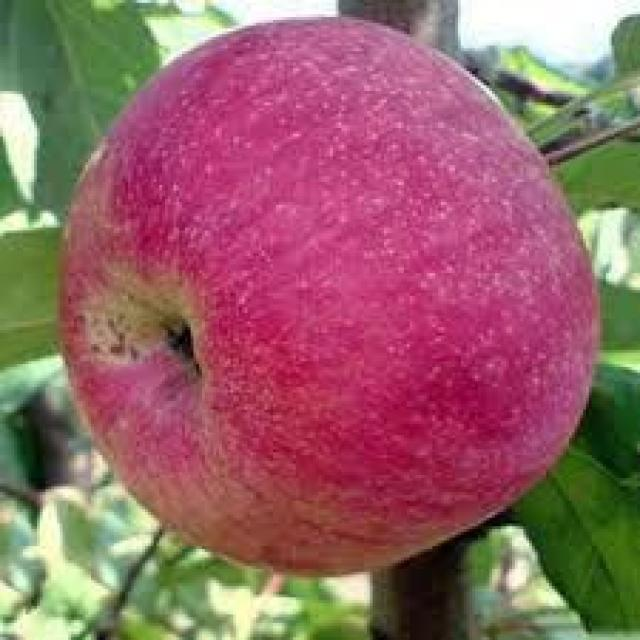Fresh Apple: (73, 20, 590, 573)
